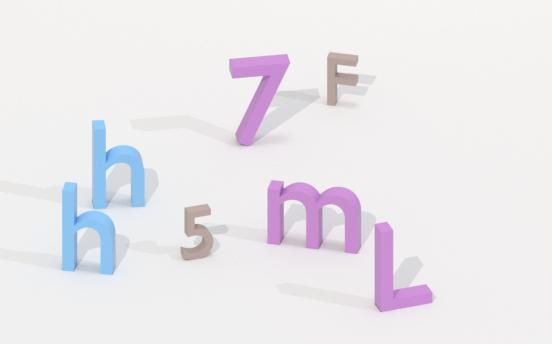chu_khoi: (267, 181, 360, 253), (374, 222, 432, 310), (62, 182, 115, 273), (92, 120, 144, 208), (327, 52, 358, 105)
so_khoi: (229, 54, 289, 144), (180, 204, 213, 259)
